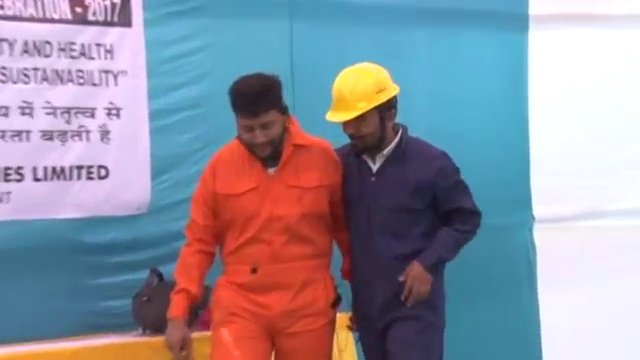helmet: (324, 61, 401, 124)
helmet_off: (228, 71, 291, 161)
helmet_on: (323, 61, 407, 154)
person: (161, 69, 344, 360), (326, 60, 482, 360)
